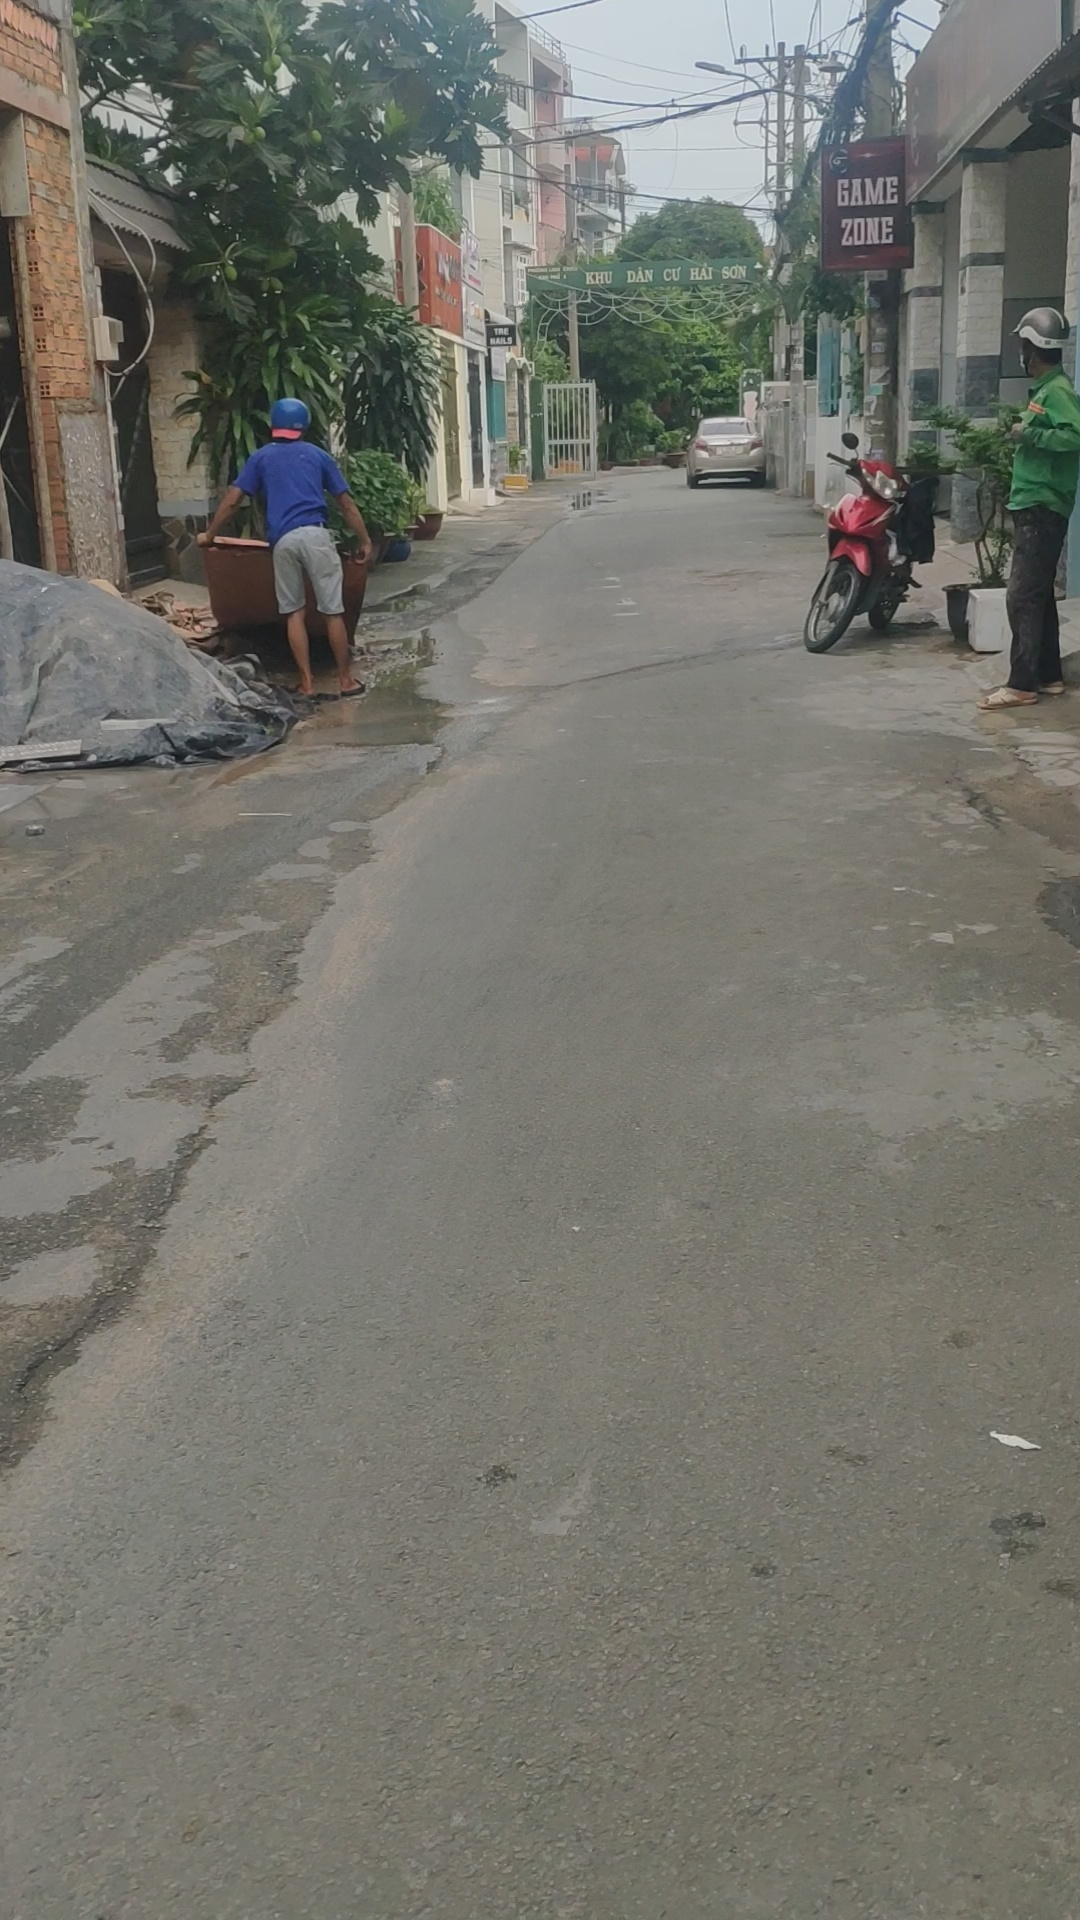hole: (277, 692, 463, 766), (364, 578, 436, 621), (560, 487, 618, 517)
